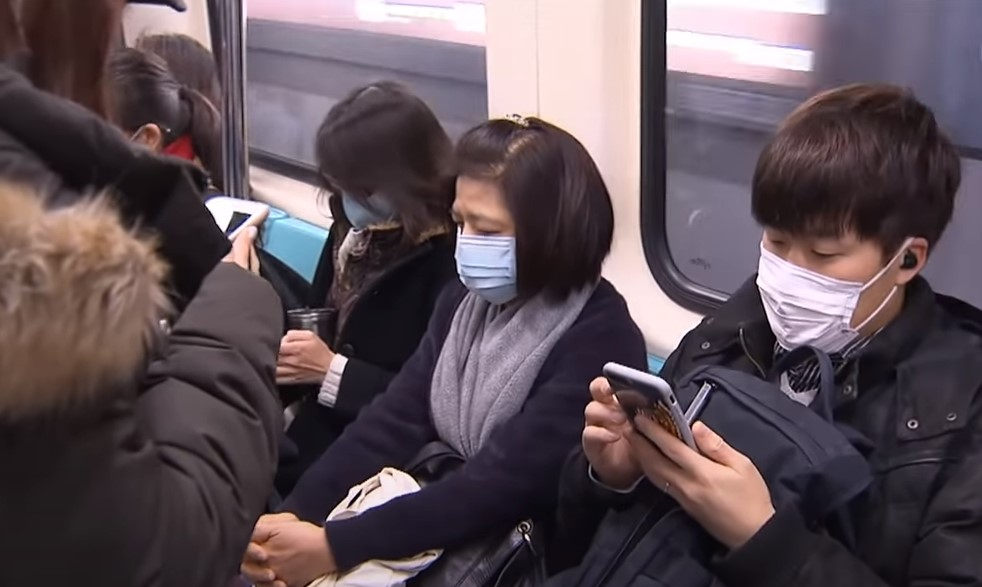face_with_mask: (749, 117, 942, 363), (446, 127, 583, 309), (318, 87, 448, 238)
